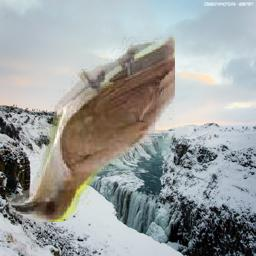Cuckoo: (5, 34, 175, 222)
